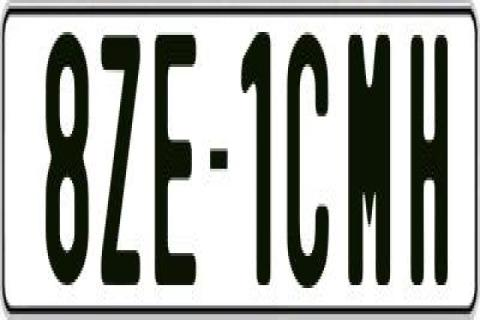0: (46, 29, 94, 282), (240, 23, 276, 285)
C: (284, 35, 332, 297)
E: (154, 29, 196, 282)
H: (410, 35, 448, 294)
M: (348, 29, 394, 297)
Z: (98, 29, 140, 282)
